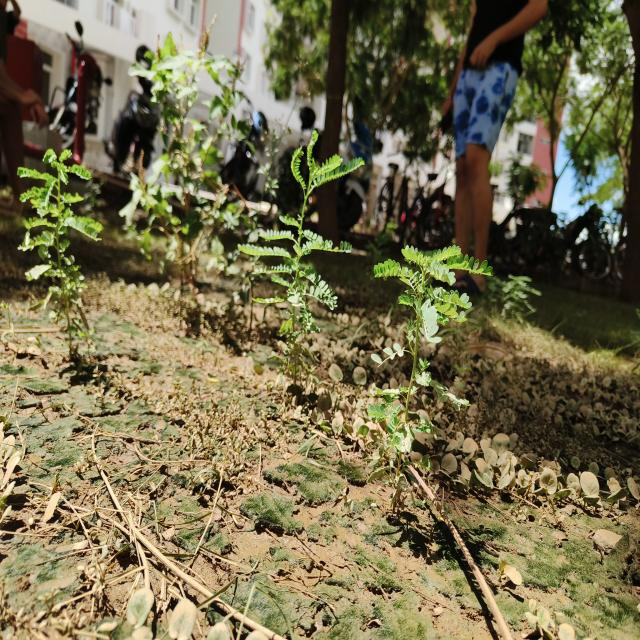weed: (363, 240, 500, 451), (233, 123, 366, 340), (10, 148, 92, 350)
